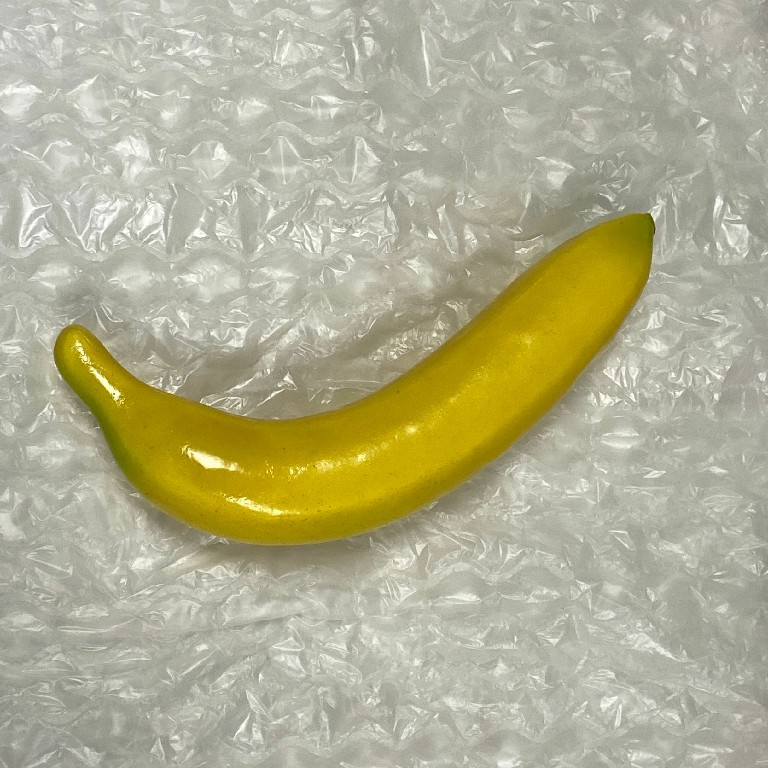fruit_banana: (51, 209, 659, 549)
